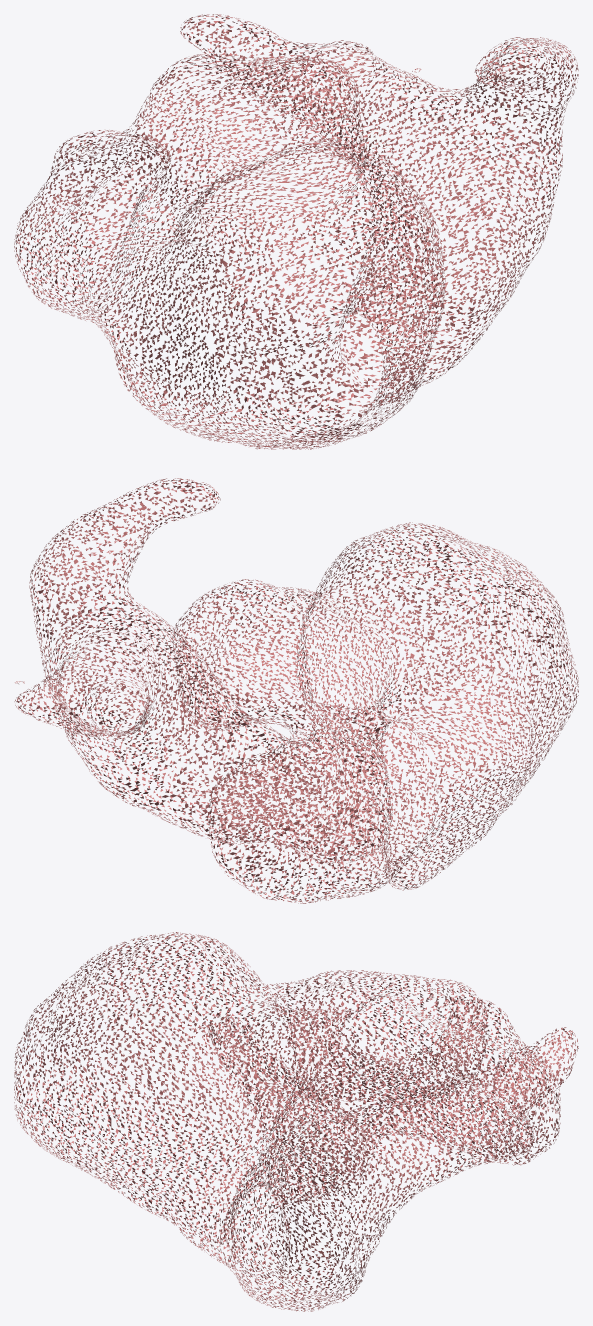
File: heart.glb
3 views of the same model, one above another, from view 1: azimuth 30°, elevation 25°; view 2: azimuth 150°, elevation 25°; view 3: azimuth 270°, elevation 25° (orthographic). The views are drawn at different scales.
Size of the model in its own units: 131 by 90.5 by 142.
